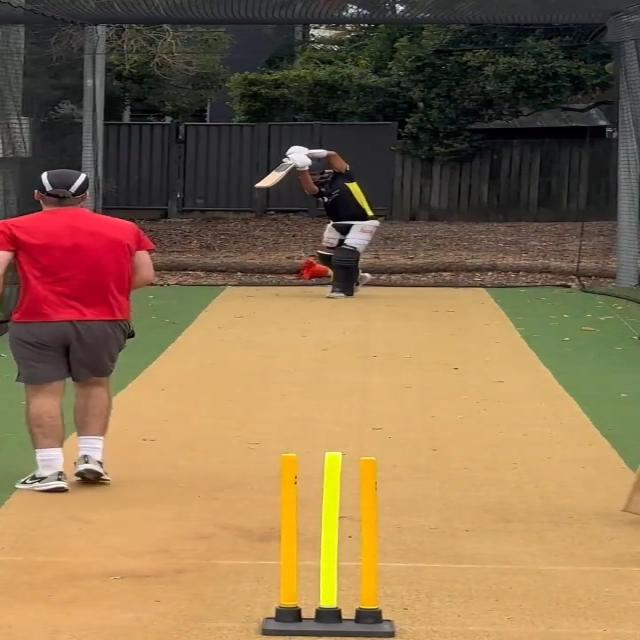stump: (266, 450, 396, 640)
